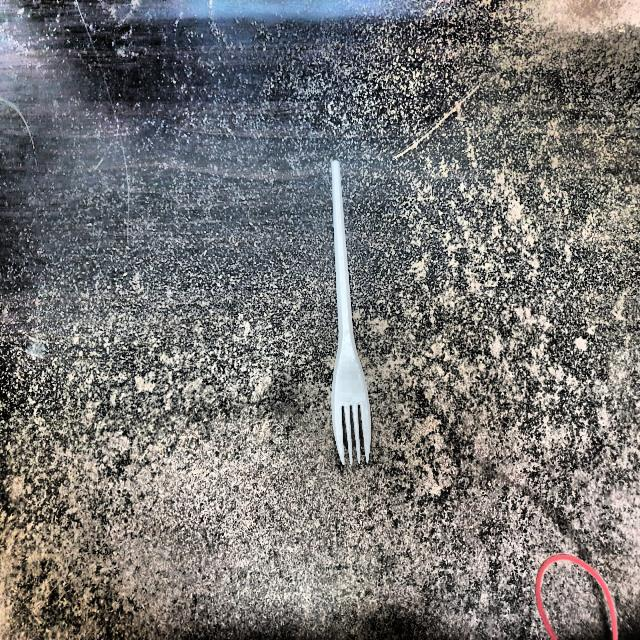plastic utensil: (314, 161, 380, 474)
